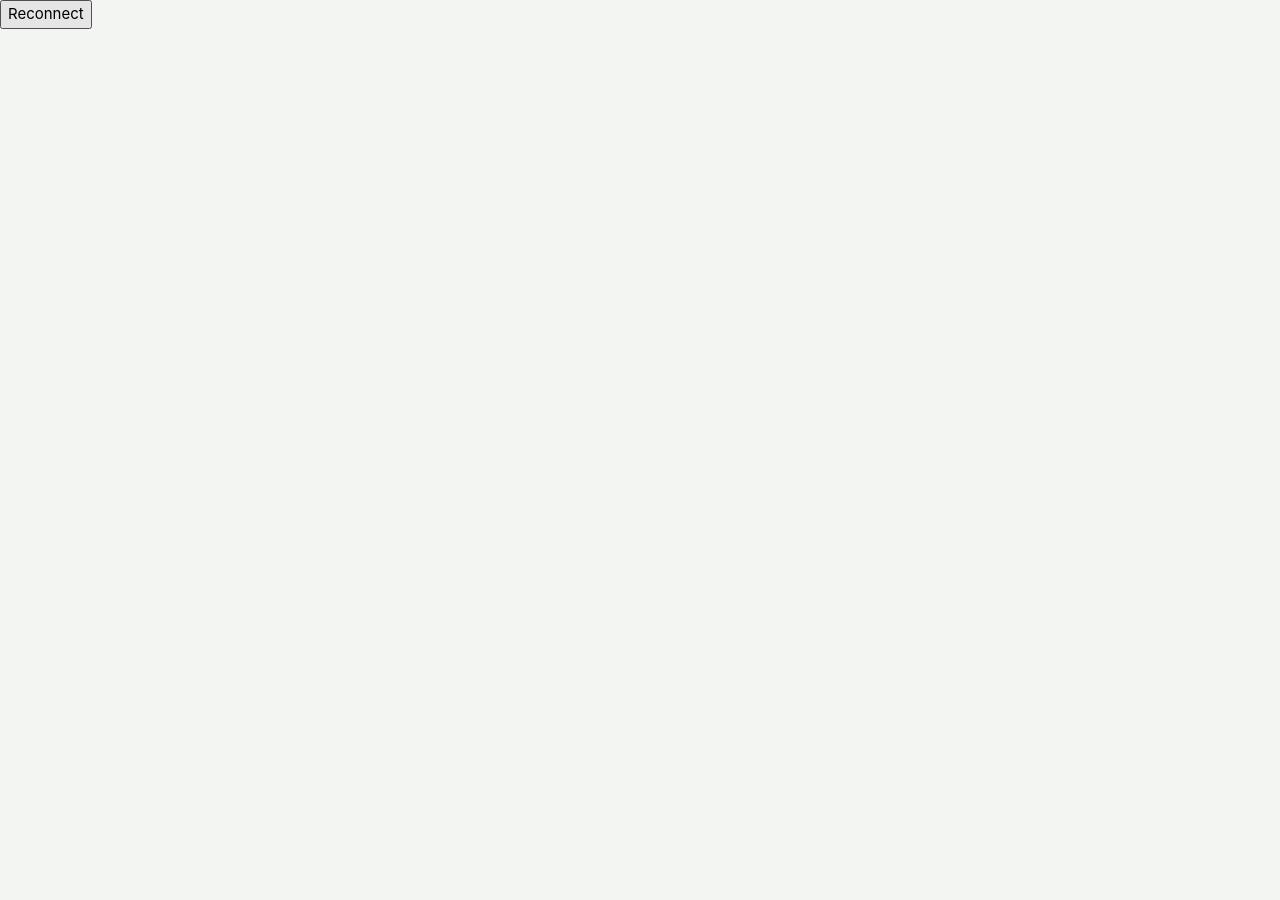
binds reconnect on an initially faulted stream when management is disabled
This screenshot has width=1280, height=900.
Click the button "Reconnect" at (46, 14), box [0,0,92,28]
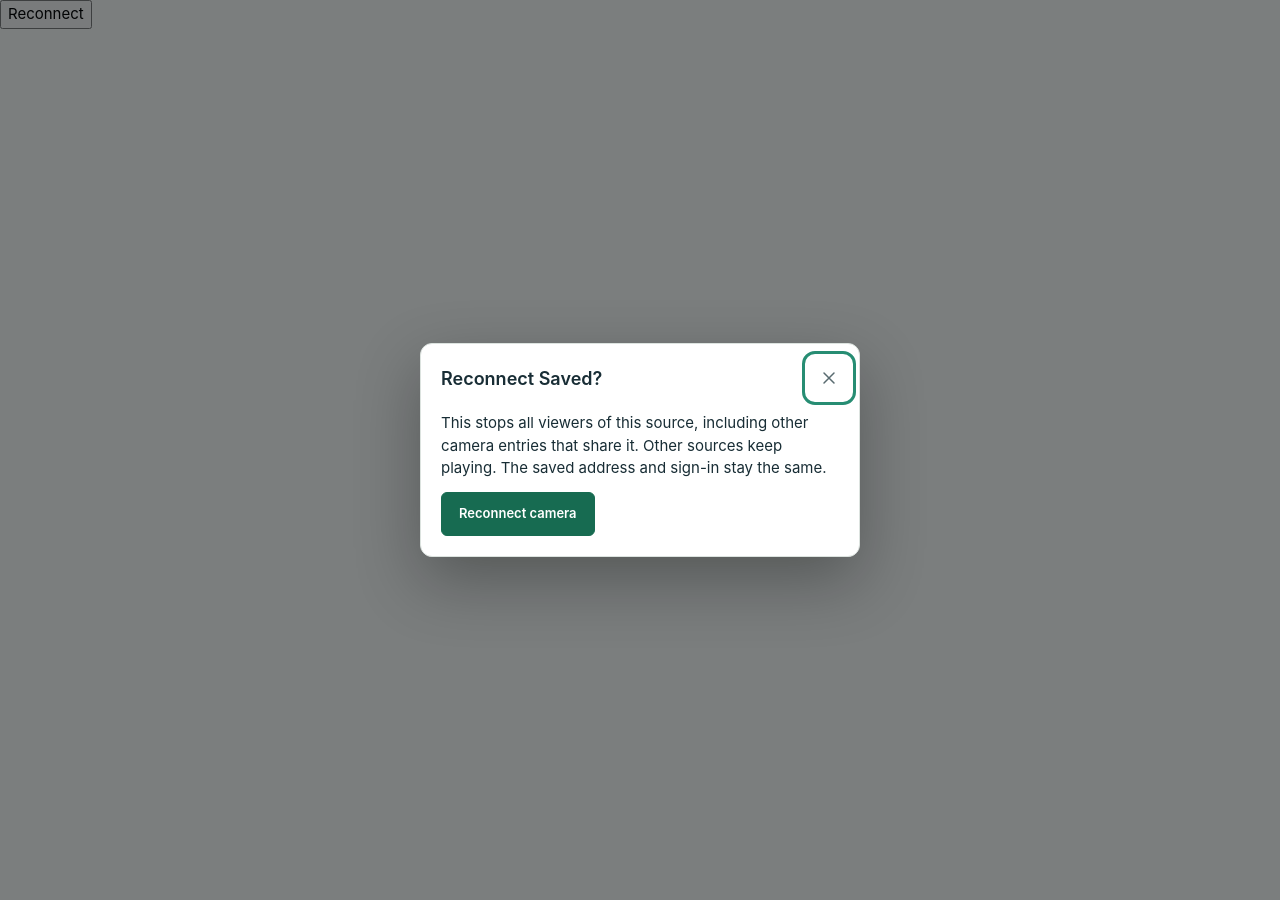
Expected: the dialog "Reconnect Saved?" is shown, [420,343,860,557]
Click the button "Reconnect camera" at (518, 514), box [441,492,595,536]
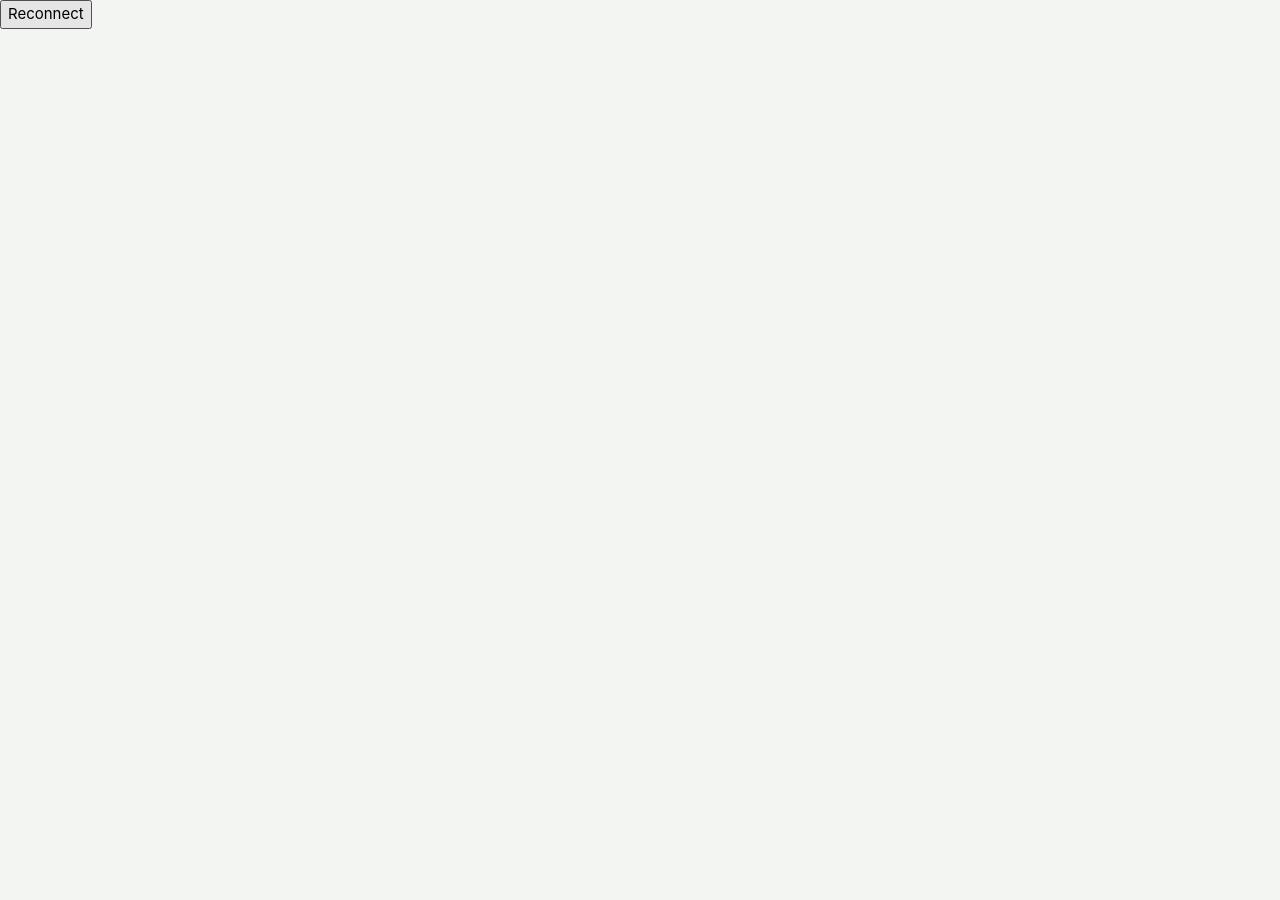
Expected: the dialog is gone
